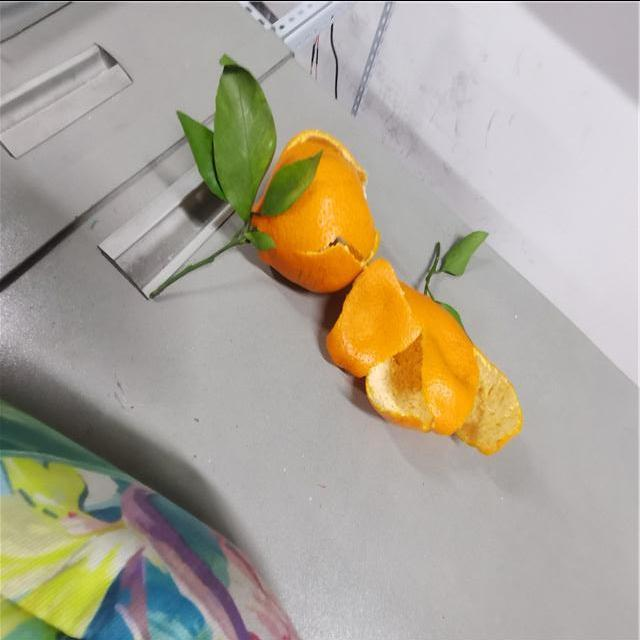orange peel: (320, 255, 528, 456), (250, 130, 378, 309)
